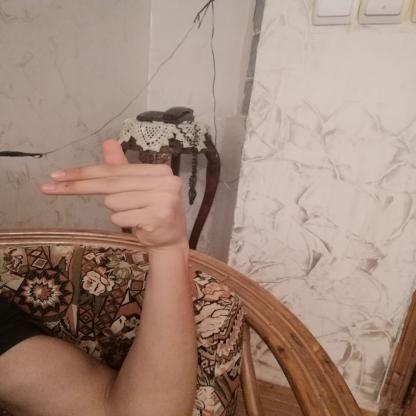GHAYN: (31, 134, 202, 251)
